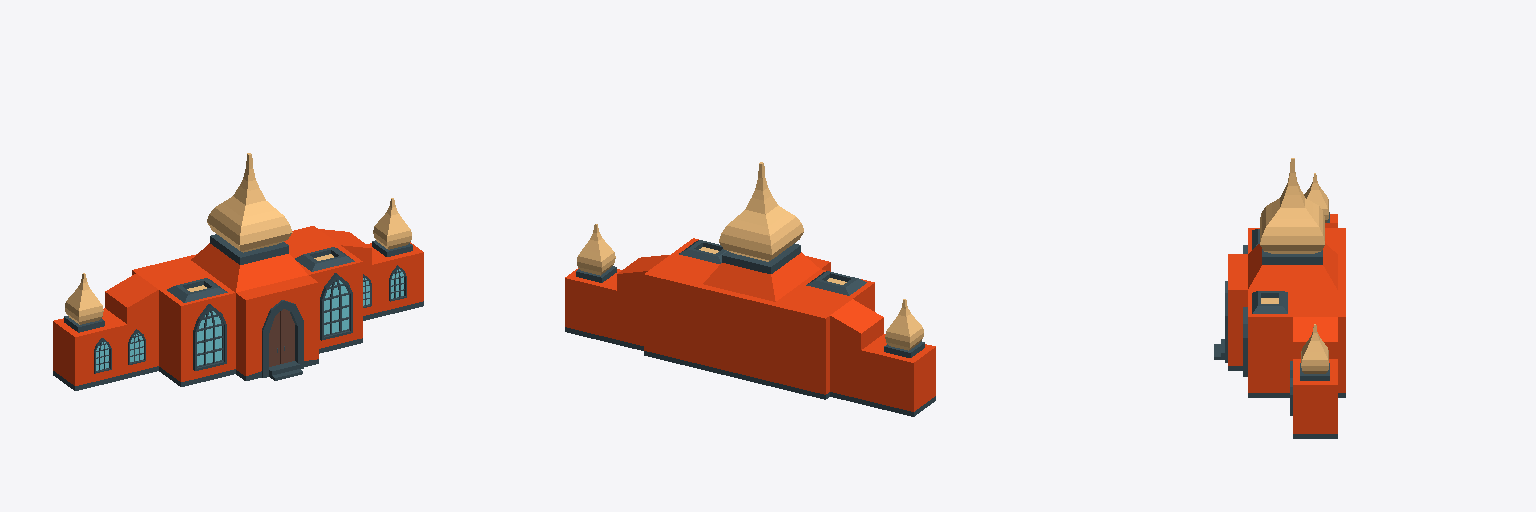
The model's file is Palace_East.obj.
The picture shows the model from 3 angles: view 1: azimuth 30°, elevation 25°; view 2: azimuth 150°, elevation 25°; view 3: azimuth 270°, elevation 25°; orthographic projection.
Parts seen in each view (by area): view 1: Palace_Cube.038; view 2: Palace_Cube.038; view 3: Palace_Cube.038.
Boxes of the visible parts, x1=… form: Palace_Cube.038: x1=53, y1=153, x2=423, y2=390; Palace_Cube.038: x1=565, y1=162, x2=935, y2=416; Palace_Cube.038: x1=1214, y1=158, x2=1345, y2=438.
Size of the model in its own units: 22.19 by 11.85 by 7.31.